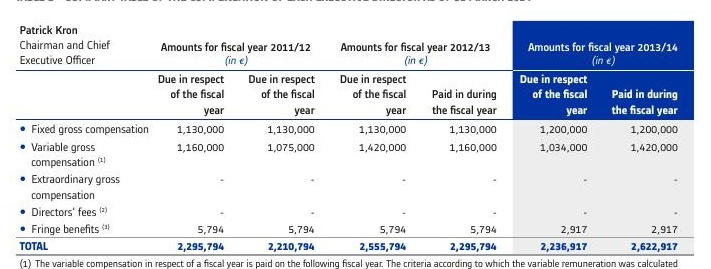table: (0, 0, 711, 269)
